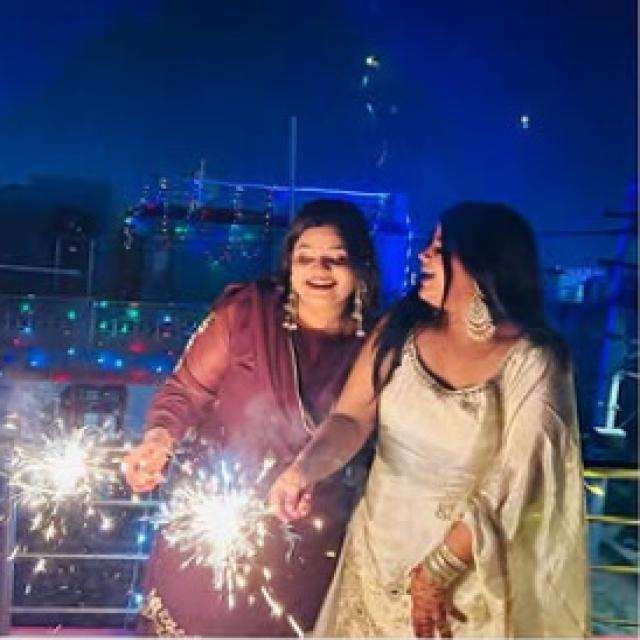fire: (155, 452, 273, 608), (0, 411, 125, 542)
